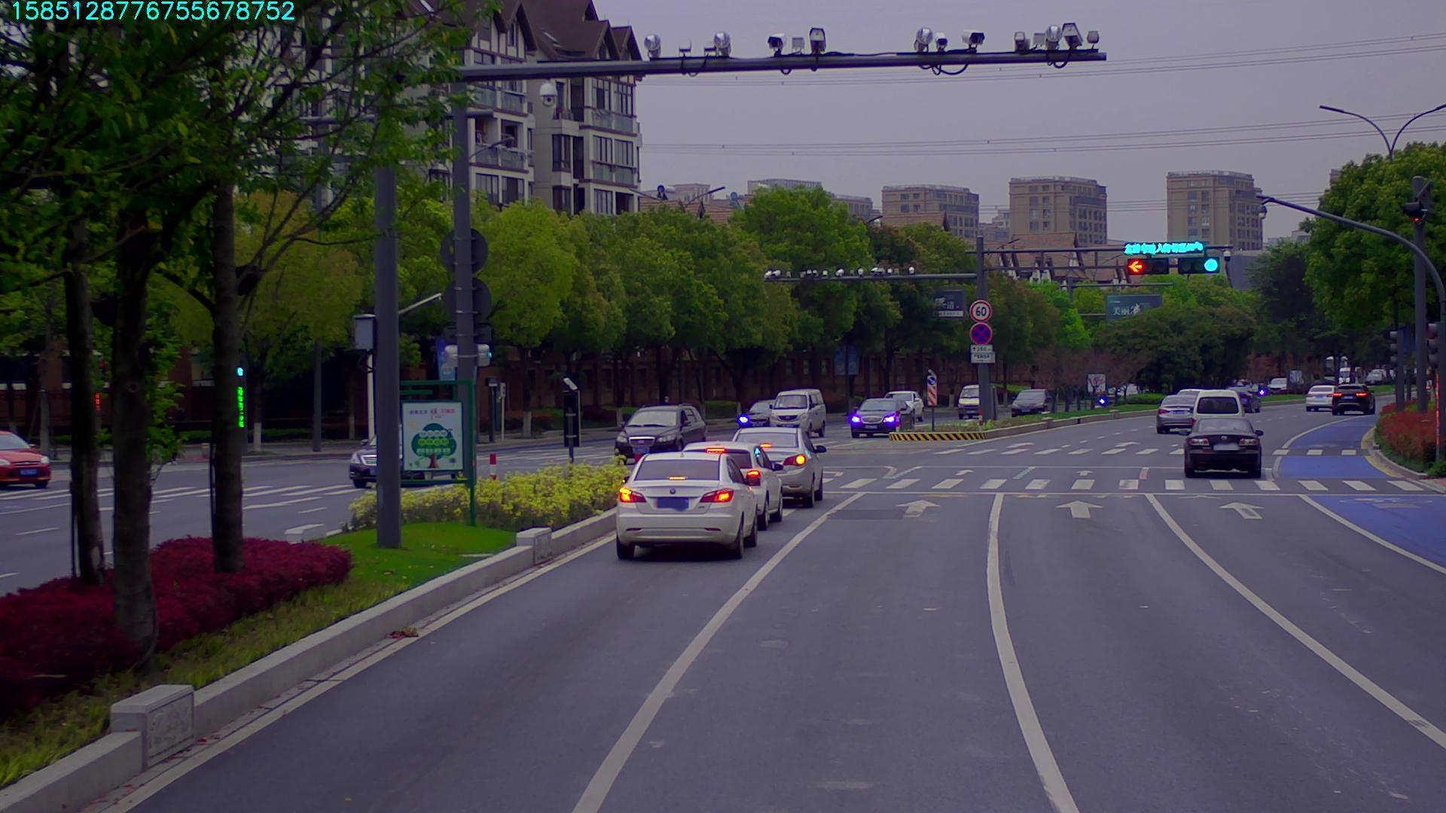green: (1176, 260, 1218, 270)
red: (1127, 261, 1170, 271)
wait_on: (1125, 244, 1204, 254)
